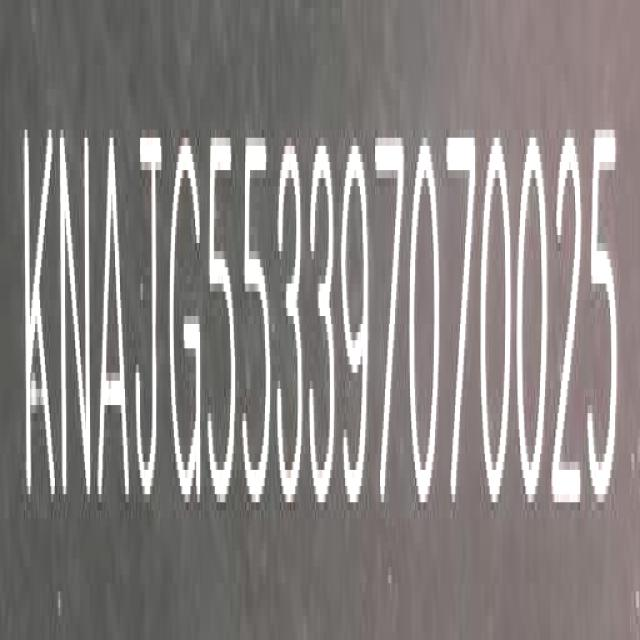0: (478, 132, 513, 516), (518, 129, 550, 516), (407, 123, 439, 507)
2: (551, 123, 584, 516)
3: (308, 132, 338, 513), (274, 123, 302, 510)
5: (205, 126, 238, 507), (242, 129, 272, 519), (587, 126, 618, 492)
7: (445, 111, 477, 531), (374, 120, 406, 507)
9: (340, 141, 371, 513)
A: (96, 120, 133, 510)
G: (167, 135, 204, 519)
J: (134, 114, 162, 495)
K: (22, 108, 58, 519)
N: (59, 111, 95, 504)
